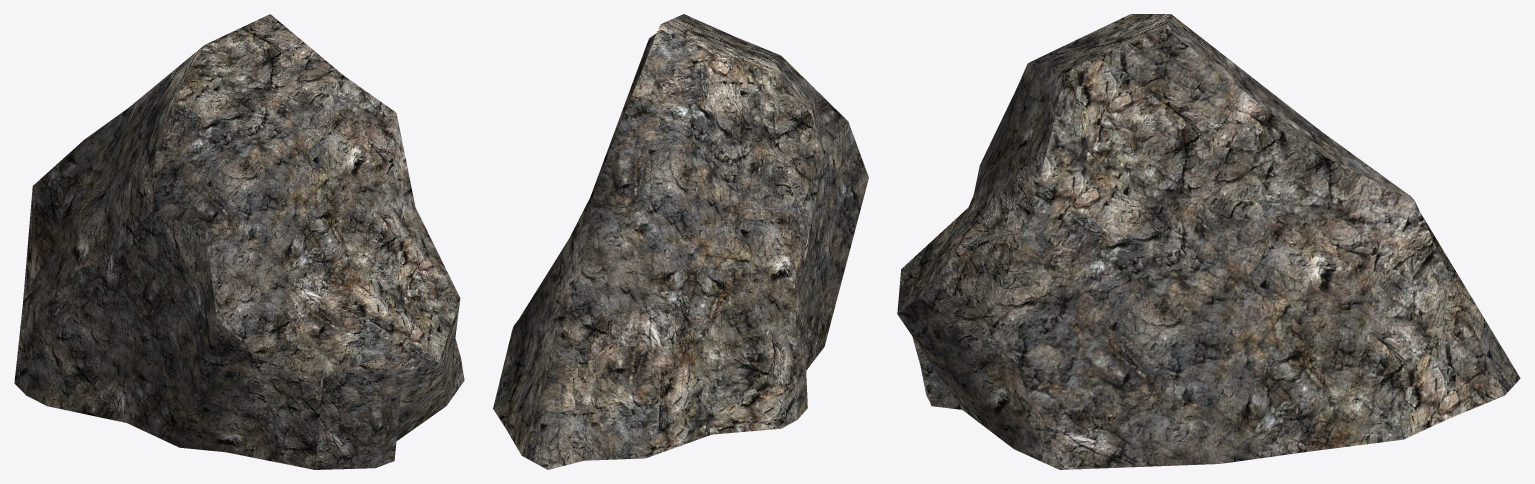
File: pir_m_prp_cav_rock_f.fbx
3 renders of one model, left to right at view 1: azimuth 30°, elevation 25°; view 2: azimuth 150°, elevation 25°; view 3: azimuth 270°, elevation 25°, orthographic. The views are drawn at different scales.
Visible parts, largest first — view 1: lod_high; view 2: lod_high; view 3: lod_high.
Boxes of the visible parts, <box> form: lod_high: <box>14,14,464,469</box>; lod_high: <box>493,14,868,469</box>; lod_high: <box>897,14,1520,469</box>.
Bounding box in the file's own units: 2318 × 2379 × 3582.
Materials: 1 (1 with a texture image).
